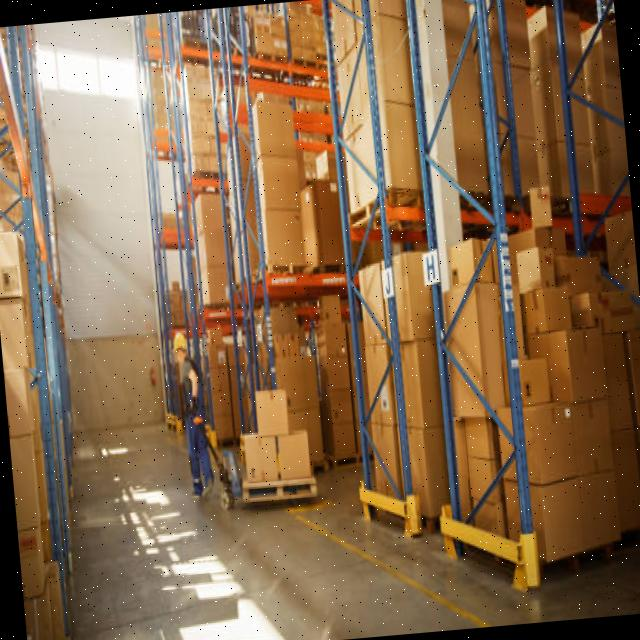Wooden-Pallets: (244, 479, 318, 504)
